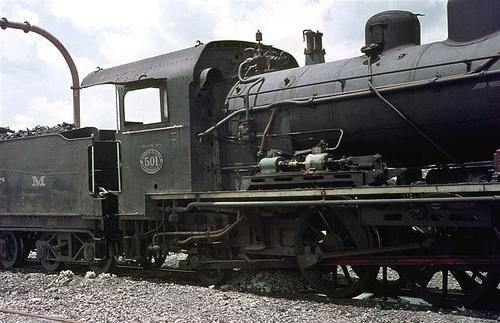train: (2, 2, 500, 300)
